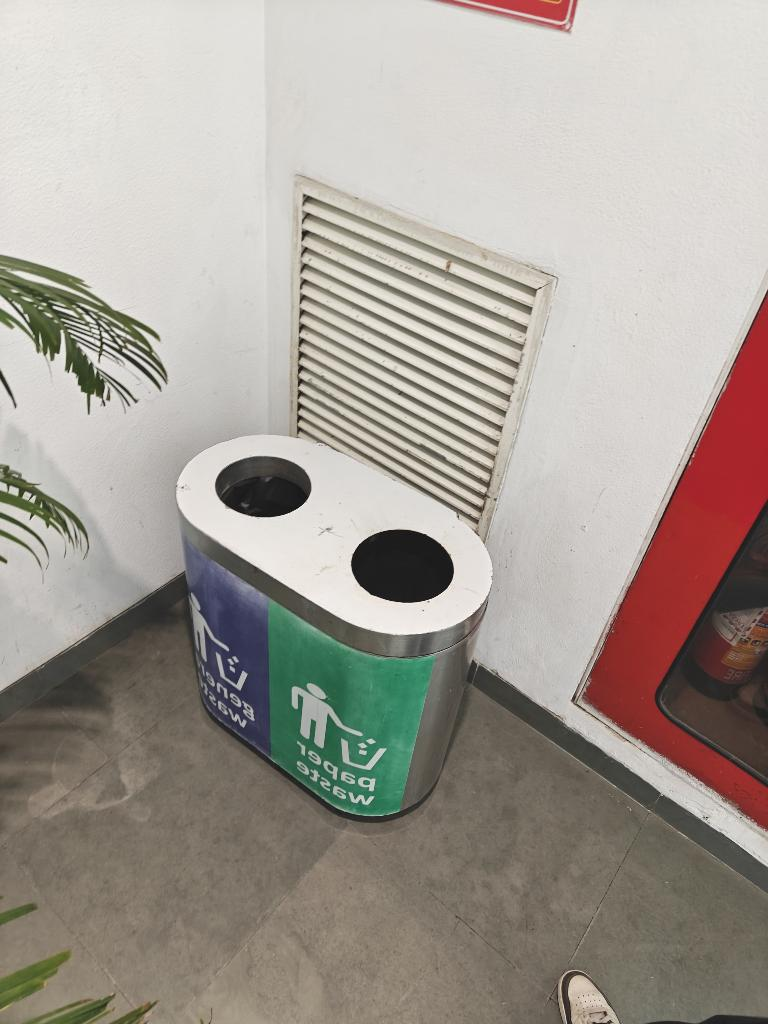dustbin: (138, 427, 542, 834)
